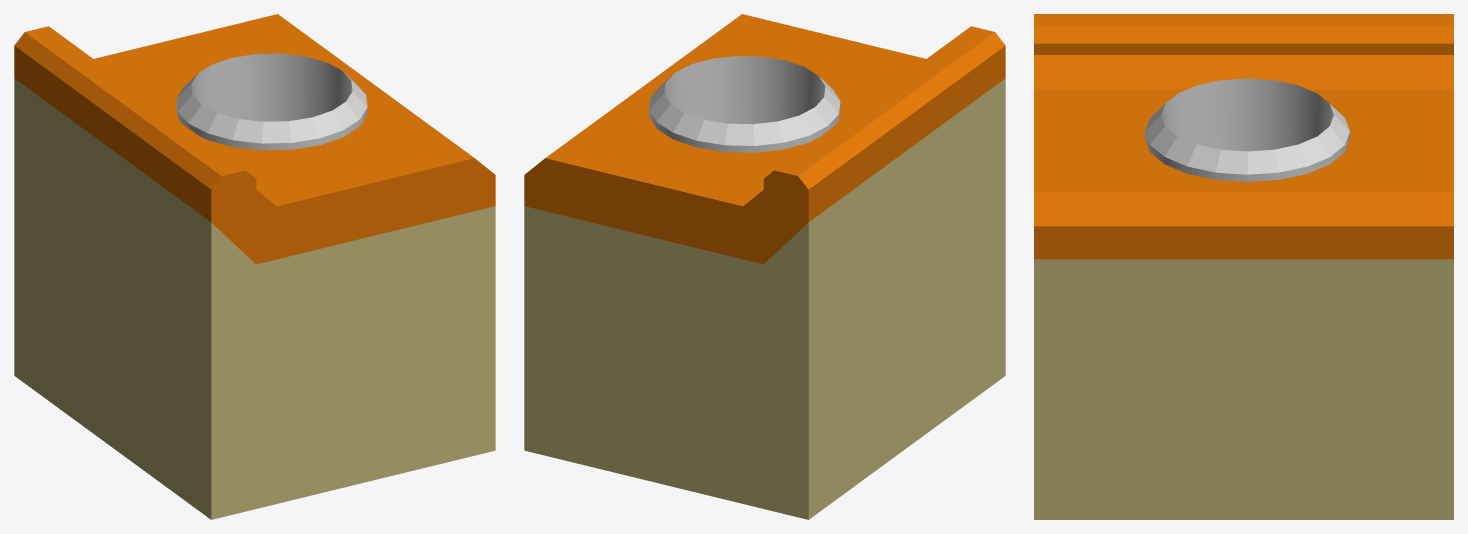
Rendered from NoodlePot.fbx.
The picture shows the model from 3 angles, left to right: view 1: azimuth 30°, elevation 25°; view 2: azimuth 150°, elevation 25°; view 3: azimuth 270°, elevation 25°; orthographic projection. The views are drawn at different scales.
Visible parts, largest first — view 1: pCube6; view 2: pCube6; view 3: pCube6.
Part boxes in pixels (<box>): pCube6: <box>14,14,495,519</box>; pCube6: <box>524,14,1005,519</box>; pCube6: <box>1034,14,1453,519</box>.
Bounding box in the file's own units: 5 × 5.73 × 6.
